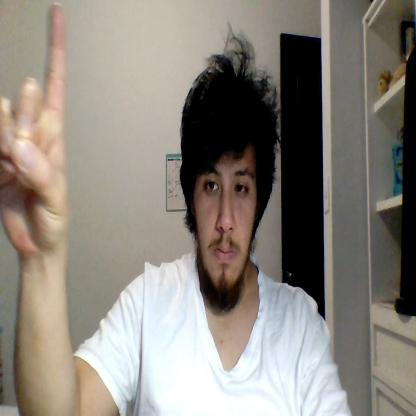D: (0, 3, 69, 255)
